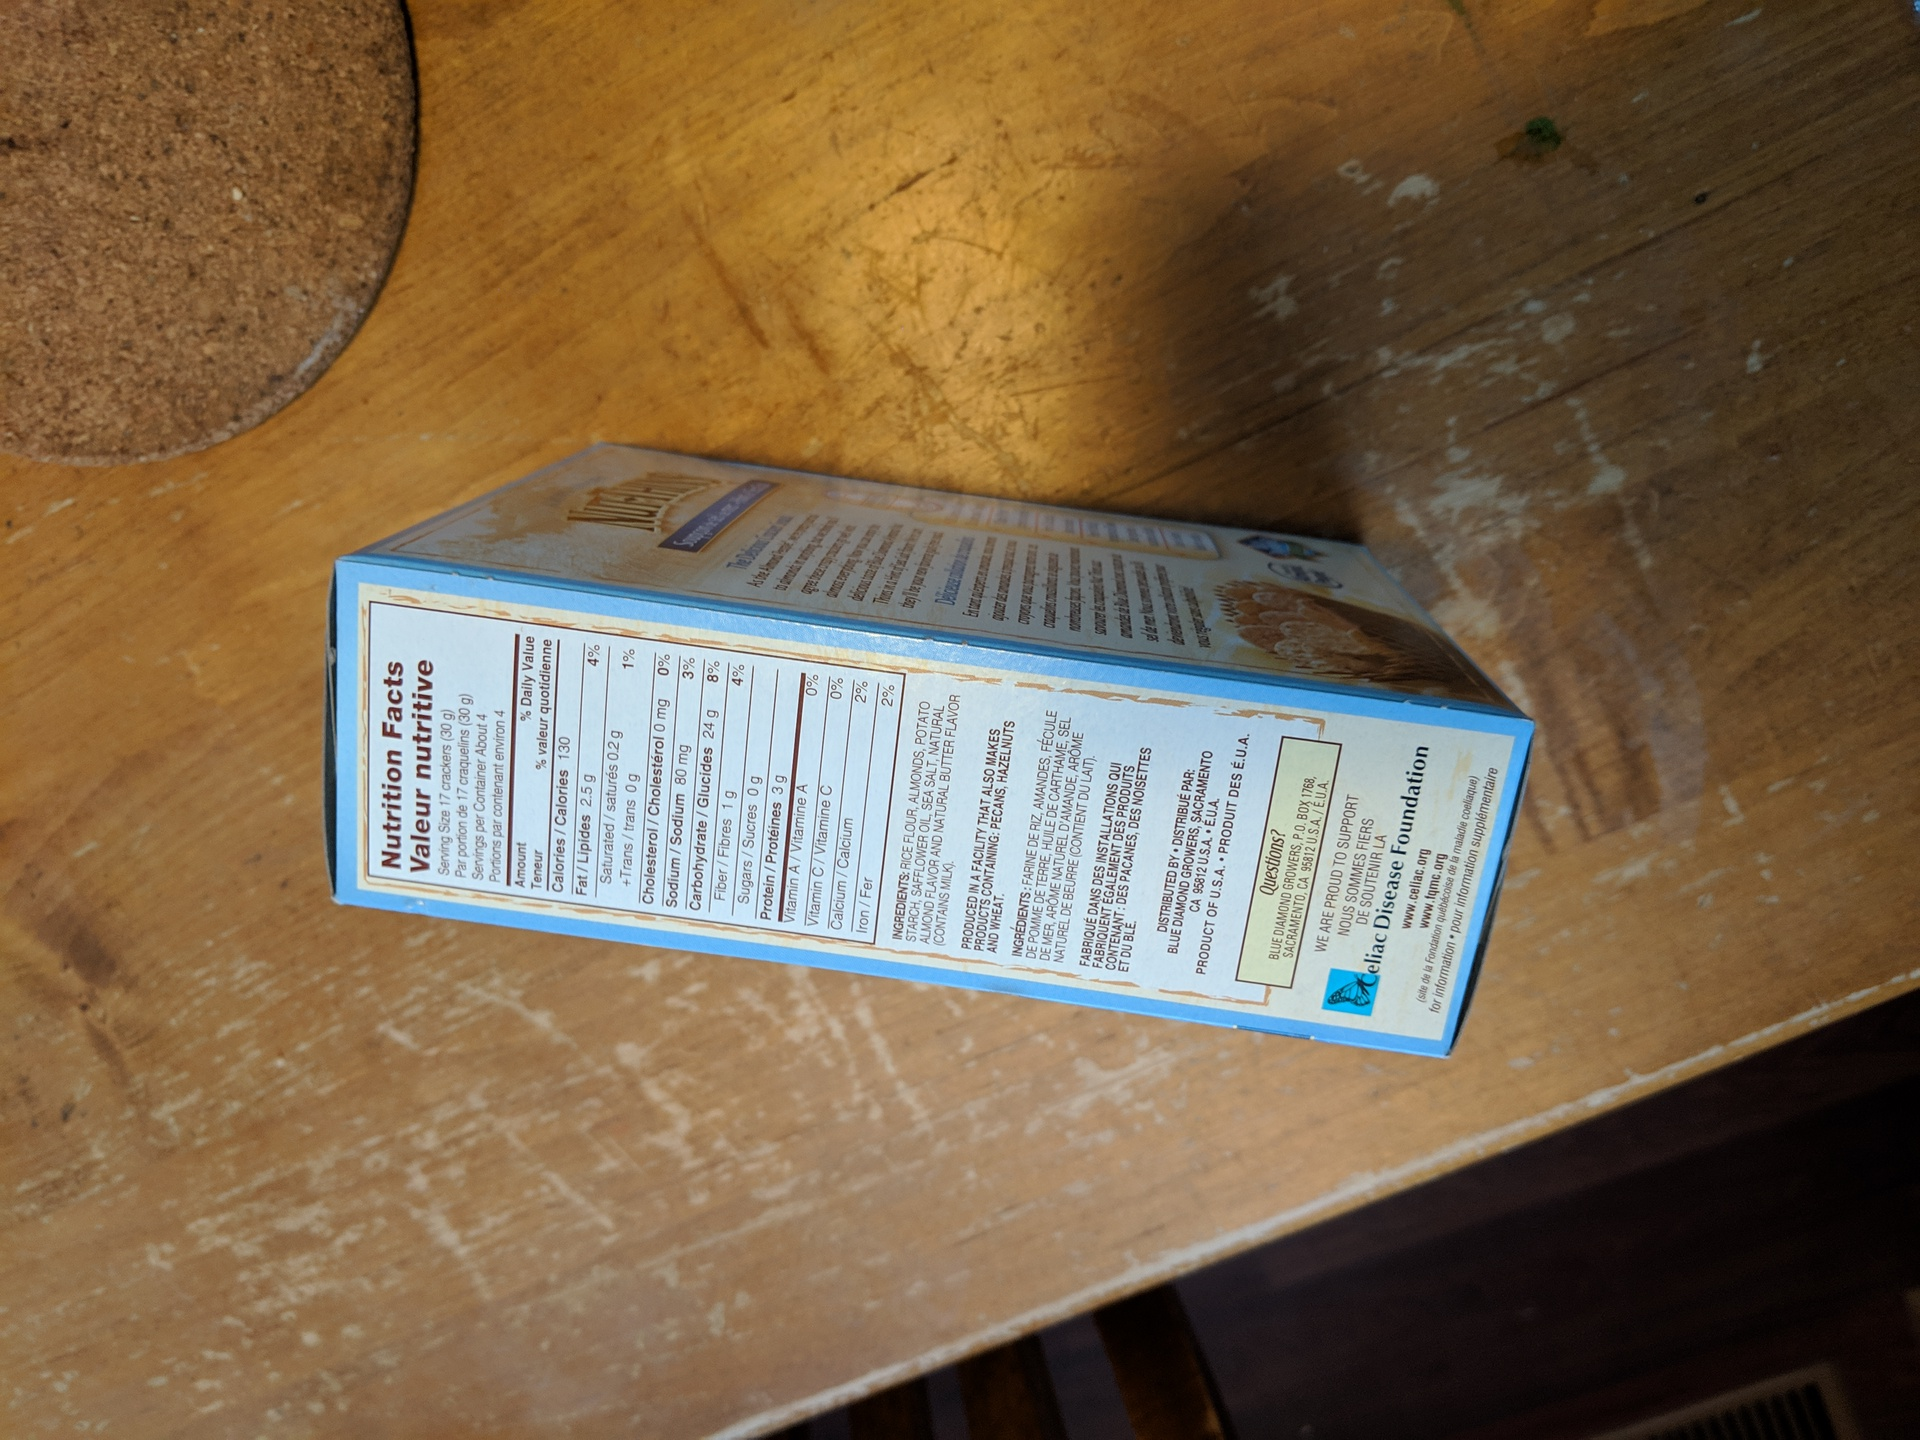blue_diamond_nut_thins_almond_seasalt: (334, 466, 1479, 1048)
